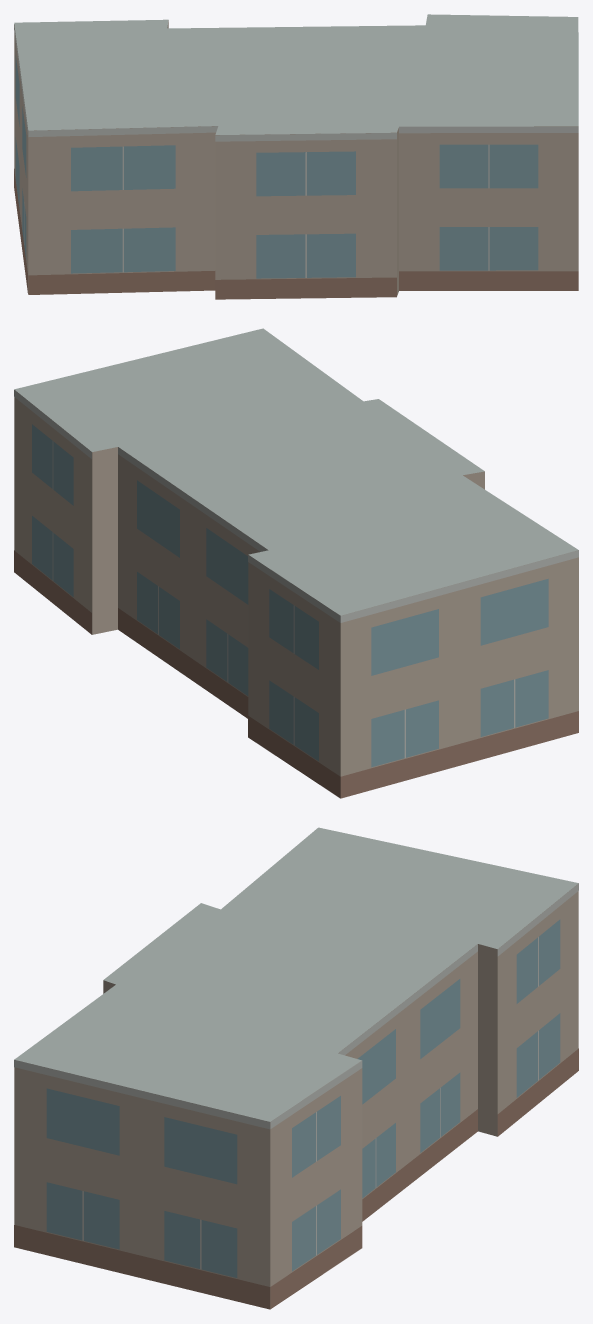
Rendered from survey-upis-32887940.glb.
3 renders of one model, top to bottom at view 1: azimuth 30°, elevation 25°; view 2: azimuth 150°, elevation 25°; view 3: azimuth 270°, elevation 25°, orthographic. The views are drawn at different scales.
Parts seen in each view (by area): view 1: survey-upis-32887940.tmp; view 2: survey-upis-32887940.tmp; view 3: survey-upis-32887940.tmp.
Boxes of the visible parts, x1,y1,x2,y2 form: survey-upis-32887940.tmp: [14, 14, 578, 299]; survey-upis-32887940.tmp: [14, 328, 578, 798]; survey-upis-32887940.tmp: [14, 827, 578, 1309].
Size of the model in its own units: 20.55 by 6.1 by 16.66.
